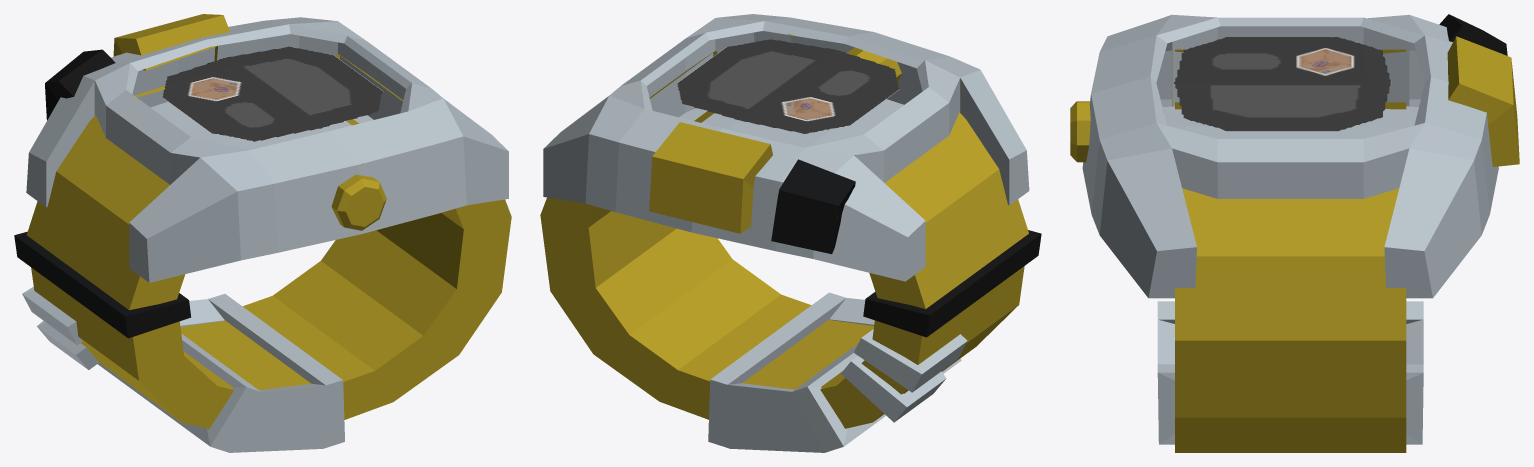
Rendered from watch.fbx.
3 renders of one model, left to right at view 1: azimuth 30°, elevation 25°; view 2: azimuth 150°, elevation 25°; view 3: azimuth 270°, elevation 25°, orthographic. The views are drawn at different scales.
Parts seen in each view (by area): view 1: Watch; view 2: Watch; view 3: Watch.
Boxes of the visible parts, left/top/right/bottom form: Watch: left=14, top=14, right=511, bottom=452; Watch: left=540, top=14, right=1041, bottom=452; Watch: left=1070, top=14, right=1519, bottom=452.
Bounding box in the file's own units: 266 × 214 × 235.
